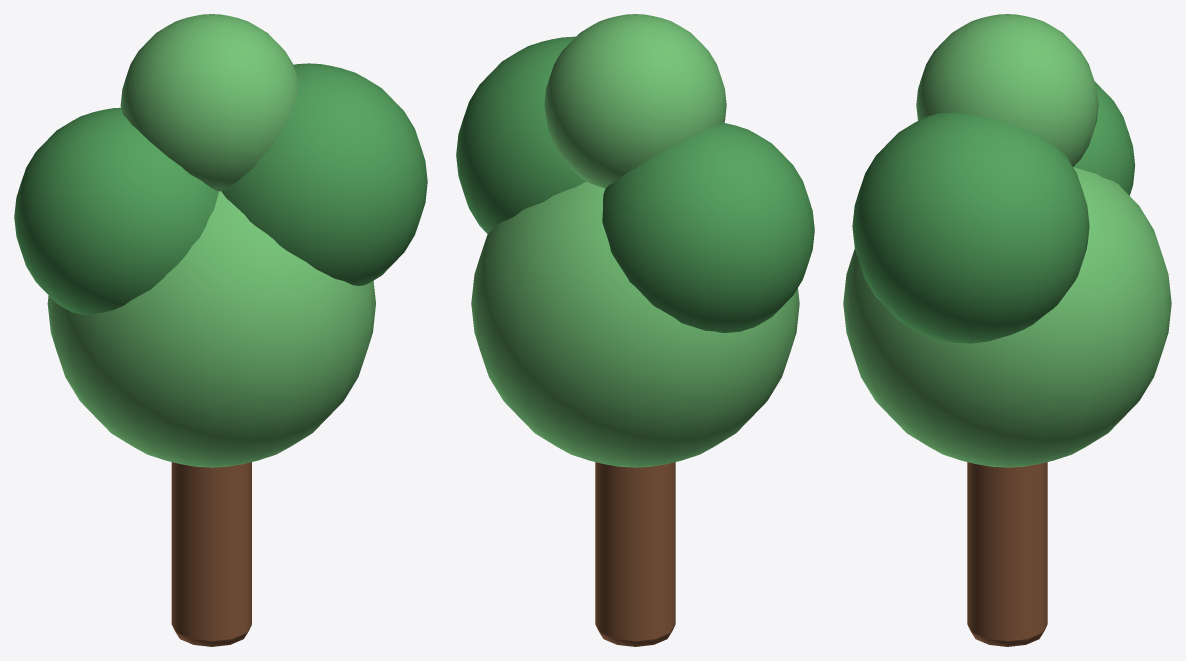
Rendered from stage-tree.glb.
The picture shows the model from 3 angles, left to right: view 1: azimuth 30°, elevation 25°; view 2: azimuth 150°, elevation 25°; view 3: azimuth 270°, elevation 25°; orthographic projection.
Parts seen in each view (by area): view 1: Canopy1, Canopy2, Canopy3, Canopy4, Trunk; view 2: Canopy1, Canopy3, Canopy4, Canopy2, Trunk; view 3: Canopy1, Canopy2, Canopy4, Trunk, Canopy3.
Boxes of the visible parts, x1,y1,x2,y2 form: Canopy1: (47,191,375,467); Canopy2: (221,63,427,285); Canopy3: (14,107,218,315); Canopy4: (120,14,298,191); Trunk: (171,462,251,646); Canopy1: (471,181,799,467); Canopy3: (602,122,814,332); Canopy4: (544,14,726,188); Canopy2: (456,36,586,233); Trunk: (595,462,675,646); Canopy1: (843,167,1171,467); Canopy2: (852,112,1089,343); Canopy4: (916,14,1098,166); Trunk: (967,462,1047,646); Canopy3: (1074,81,1135,195).
Size of the model in its own units: 0.225 by 0.37 by 0.18.
